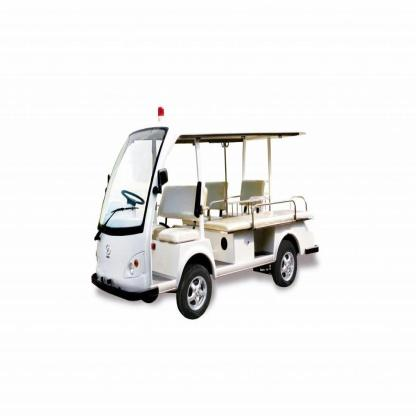airport-trolley: (91, 106, 319, 320)
